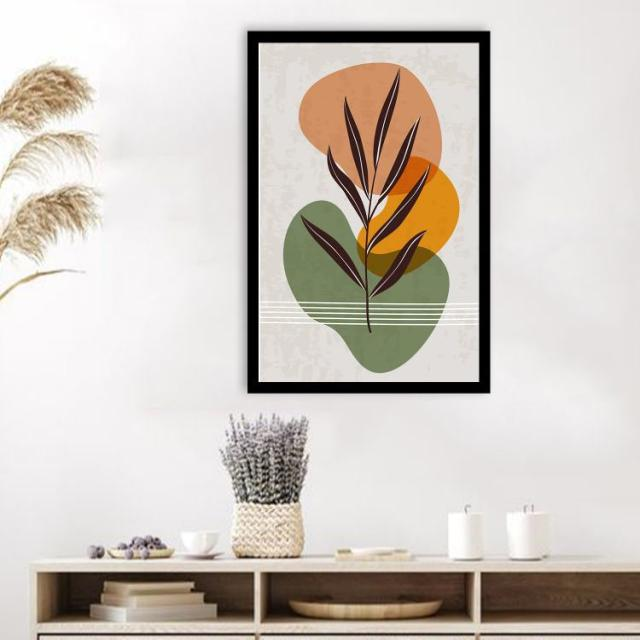painting: (246, 28, 491, 391)
